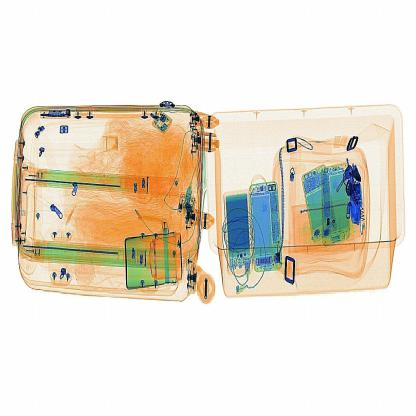scissors: (346, 180, 370, 240)
